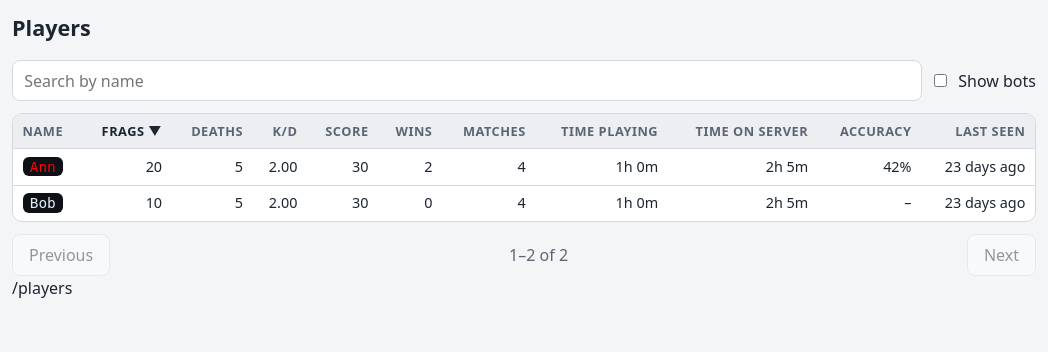
Test: the Players table (7.2) › hides bots until asked, and marks them
The width and height of the screenshot is (1048, 352).
Expected: the text "Ann" is shown, [30,158,56,174]
Expected: the text "Rex" is not shown
Click the checkbox labelled "Show bots" at (941, 81), box [934,74,947,87]
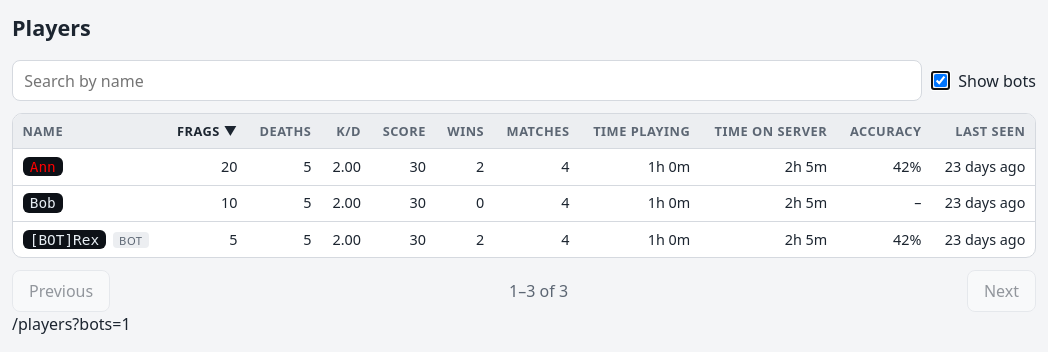
Result: the text "[BOT]Rex" is shown at [30,231,99,247]
Result: the text "bot" is shown at [113,232,149,248]
Result: the text with test id "where" shows "bots=1" at [12,313,131,335]
